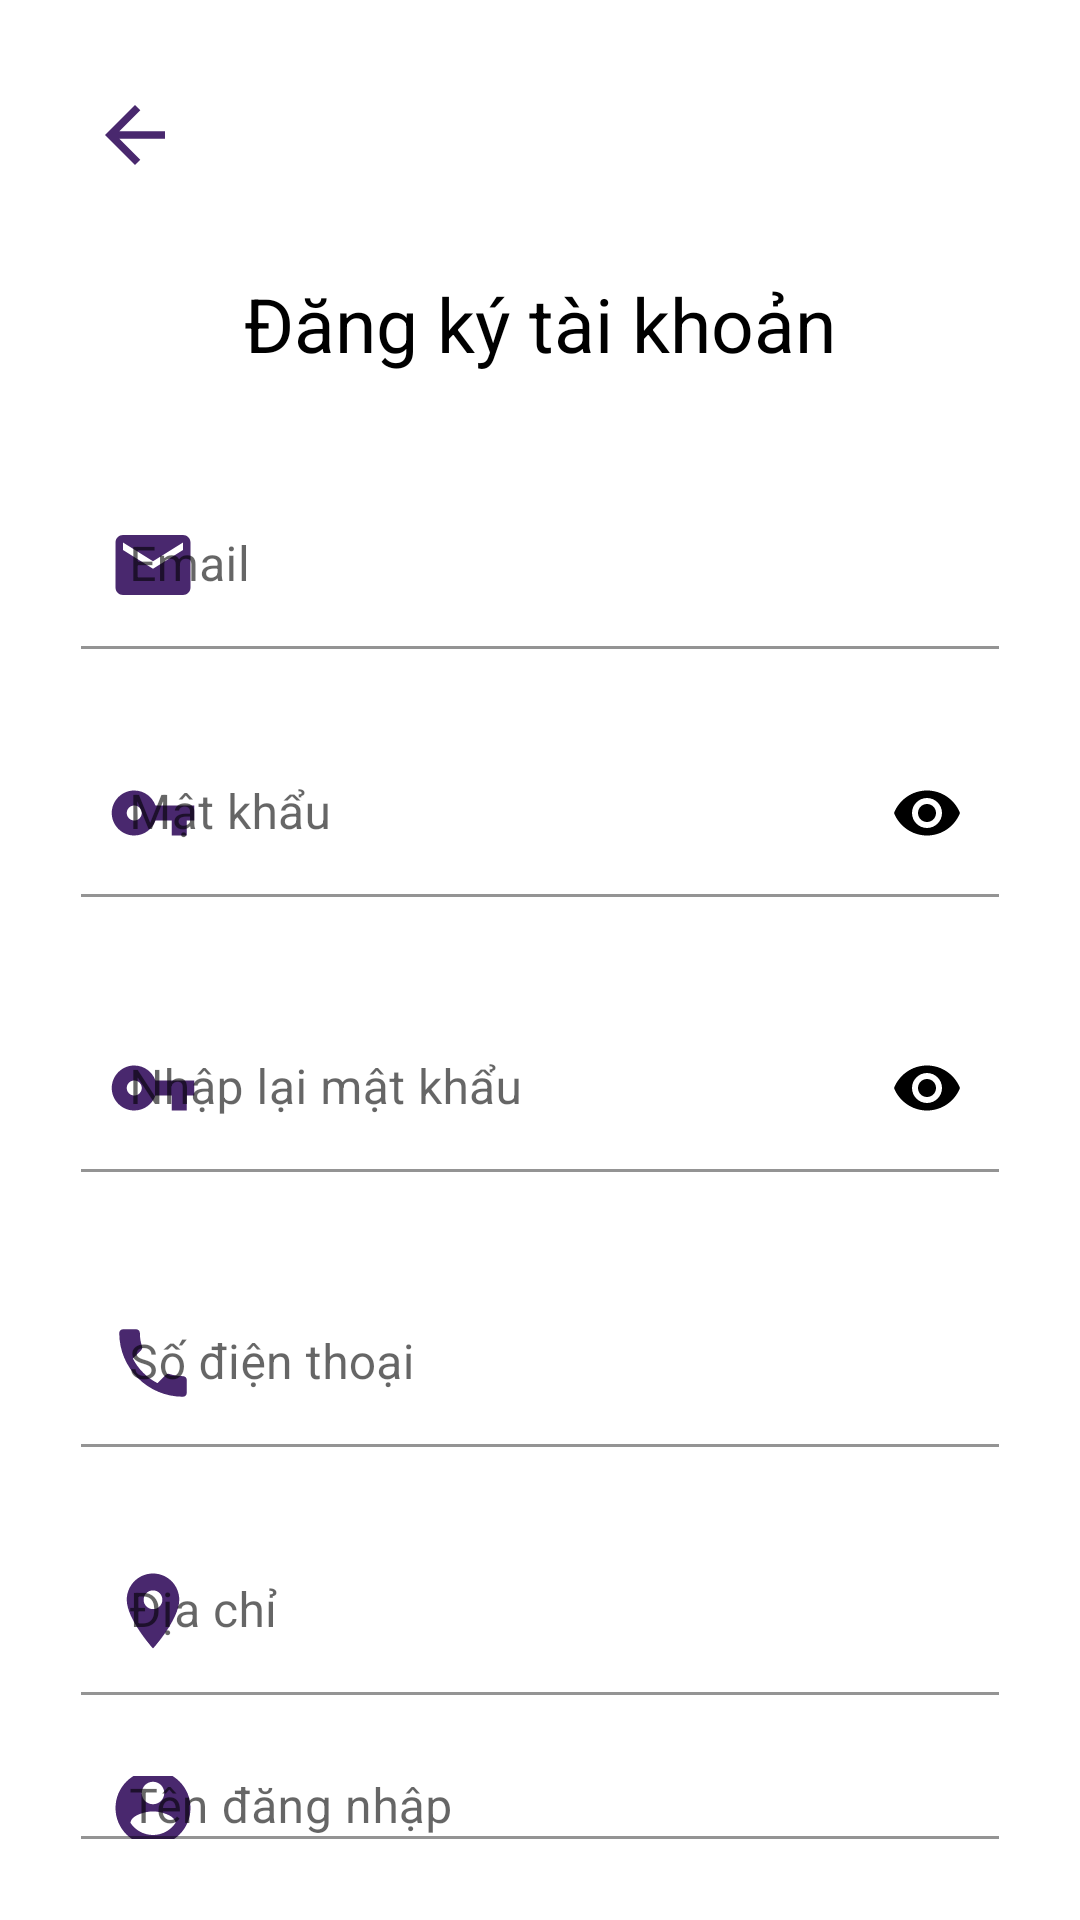

Screen size 1080*1920. Icon name, then its center in pixels as (x=x, y=y):
arrow back: (x=135, y=135)
